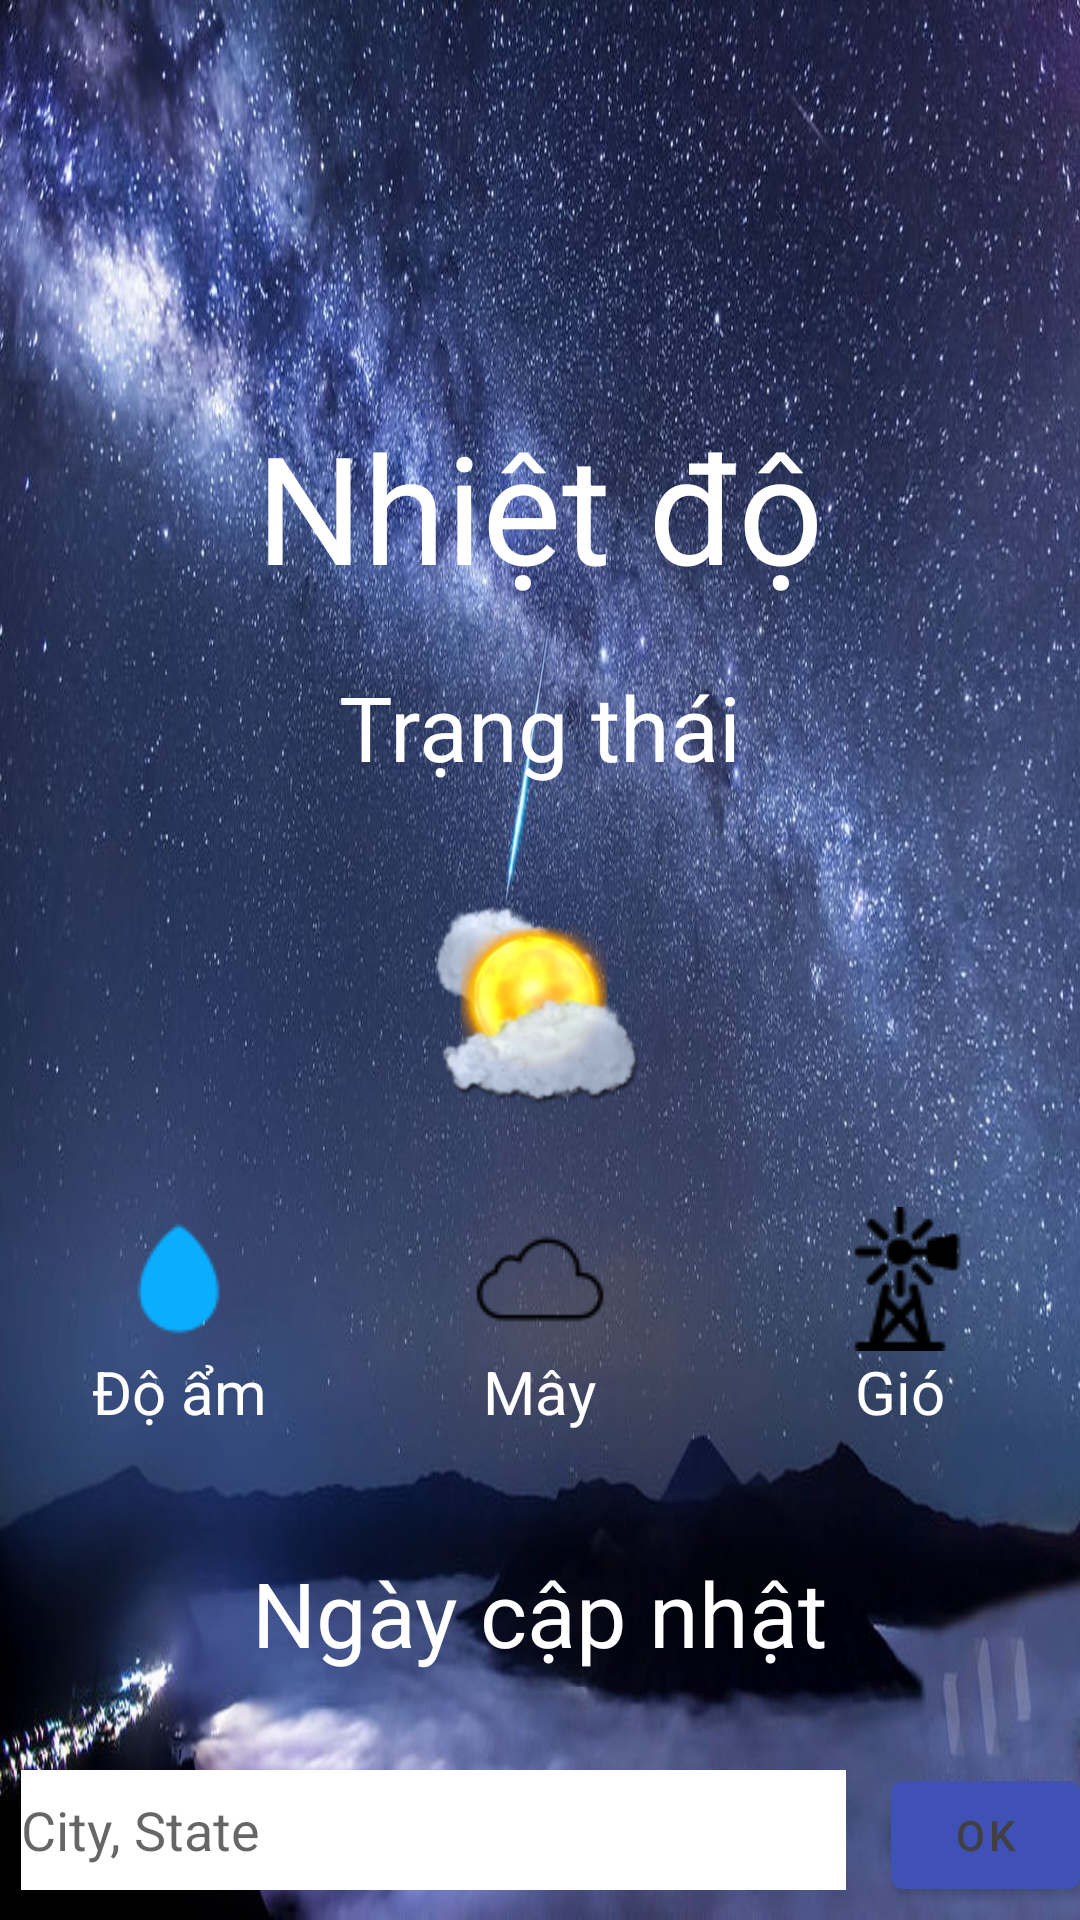

Where to tap for icons on this 1080px x 1920px app screen, as (x=x, y=y):
mill: (x=900, y=1279)
sun cloudy: (x=540, y=1012)
